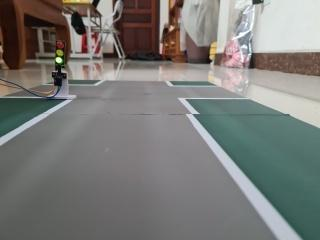green: (47, 35, 75, 69)
